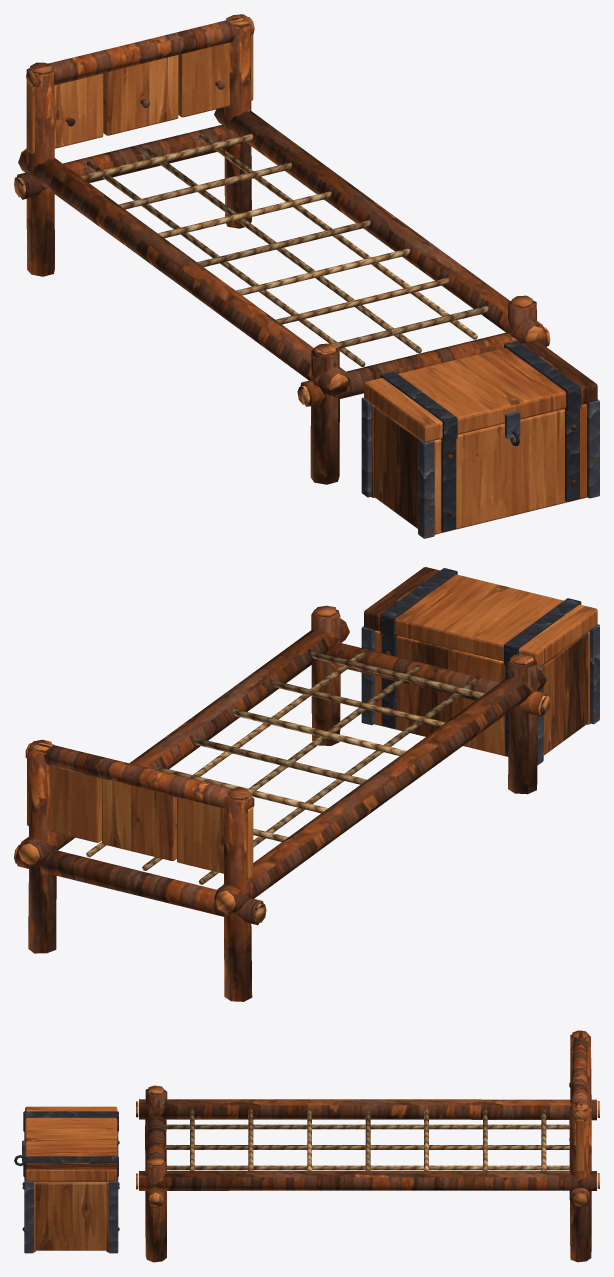
Rendered from mg_guard_cot.glb.
3 renders of one model, top to bottom at view 1: azimuth 30°, elevation 25°; view 2: azimuth 150°, elevation 25°; view 3: azimuth 270°, elevation 25°, orthographic. The views are drawn at different scales.
Visible parts, largest first — view 1: model; view 2: model; view 3: model.
Boxes of the visible parts, box(x1,y1,x2,y2) form: model: box(14, 14, 599, 538); model: box(14, 567, 599, 1001); model: box(14, 1030, 599, 1262).
Bounding box in the file's own units: 0.864 × 0.6946 × 2.42.
19 materials, 18 textured.
